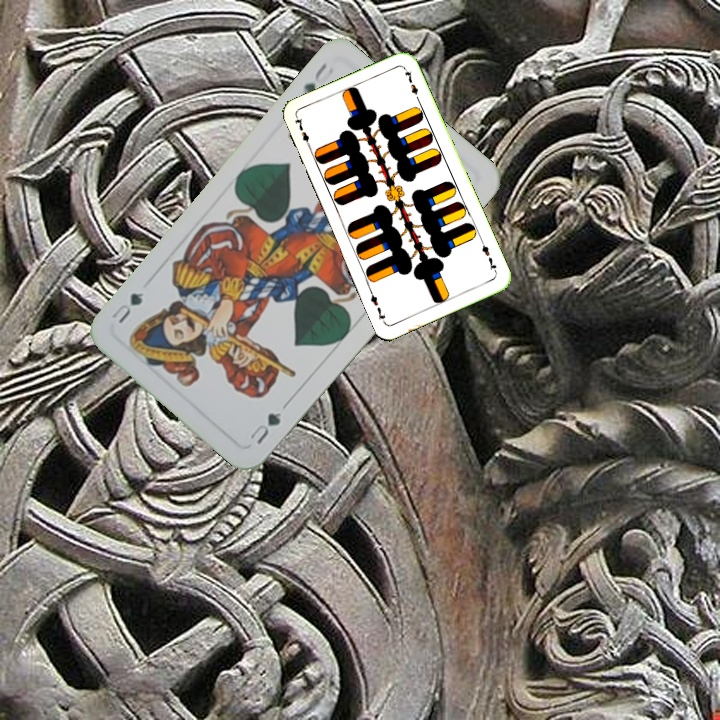E7: (291, 113, 314, 152), (477, 237, 499, 276)
GU: (245, 406, 284, 447), (299, 58, 337, 97)
